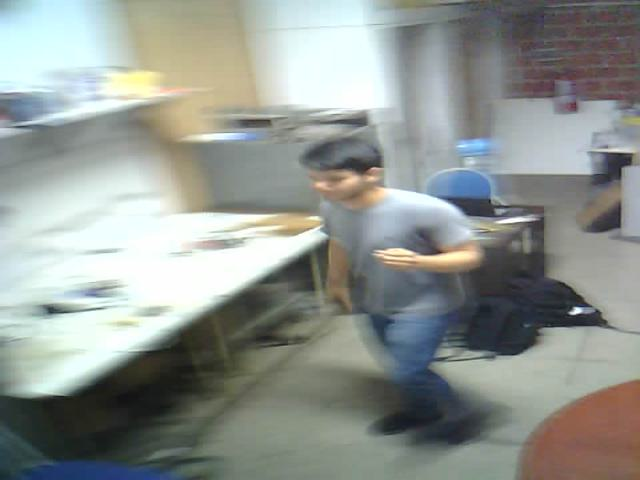person: (286, 118, 501, 451)
